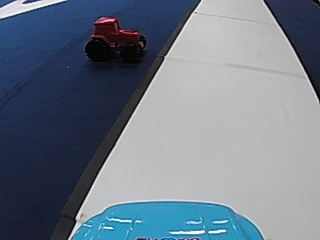tractor: (84, 14, 148, 63)
